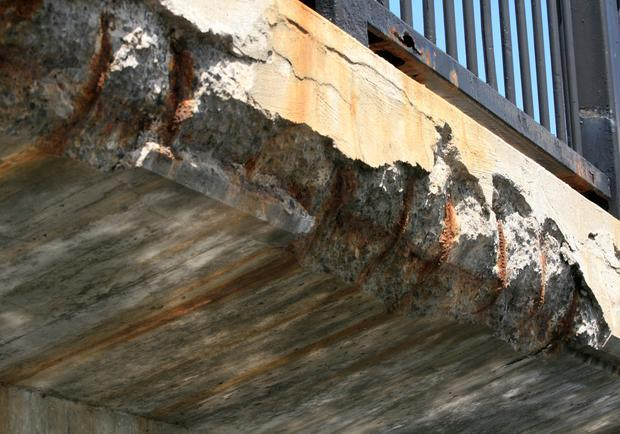exposed_rebar: (493, 219, 507, 288), (540, 228, 546, 303)
spalling: (0, 0, 611, 359)
